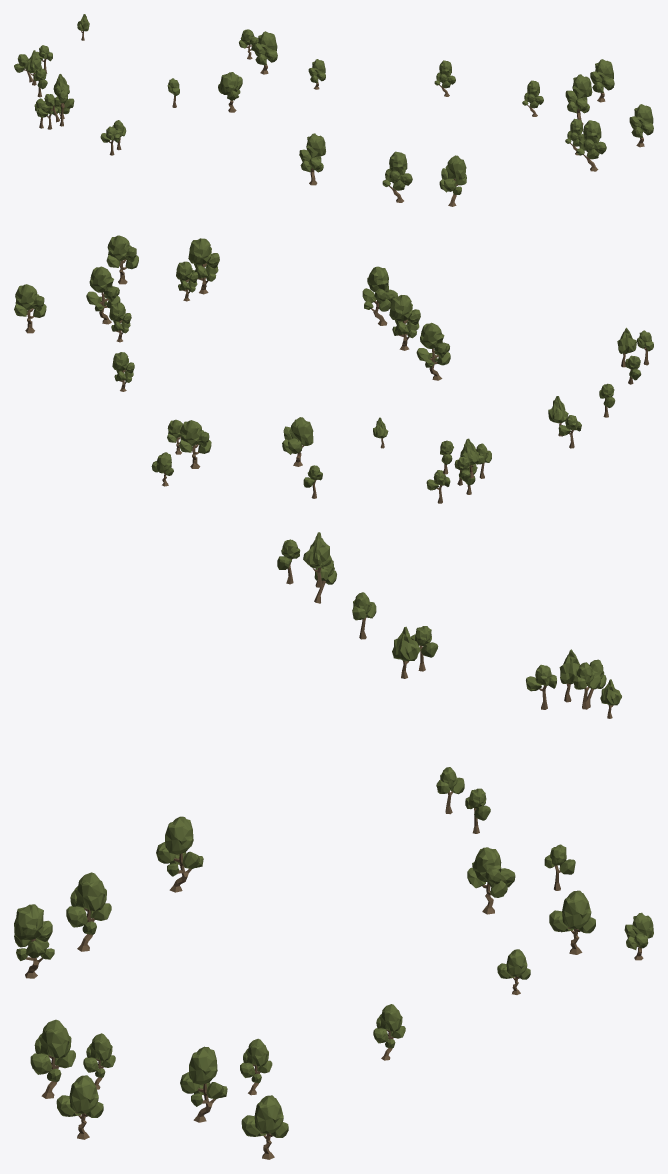
File: SM_Env_Tree_Twisted.glb
3 renders of one model, top to bottom at view 1: azimuth 30°, elevation 25°; view 2: azimuth 150°, elevation 25°; view 3: azimuth 270°, elevation 25°, orthographic. The views are drawn at different scales.
Parts seen in each view (by area): view 1: SM_Env_Tree_Twisted; view 2: SM_Env_Tree_Twisted; view 3: SM_Env_Tree_Twisted.
Boxes of the visible parts, x1=… form: SM_Env_Tree_Twisted: x1=14, y1=14, x2=653, y2=206; SM_Env_Tree_Twisted: x1=14, y1=235, x2=653, y2=503; SM_Env_Tree_Twisted: x1=14, y1=532, x2=653, y2=1159.
Size of the model in its own units: 296 by 73.24 by 190.
1 material, 1 textured.
